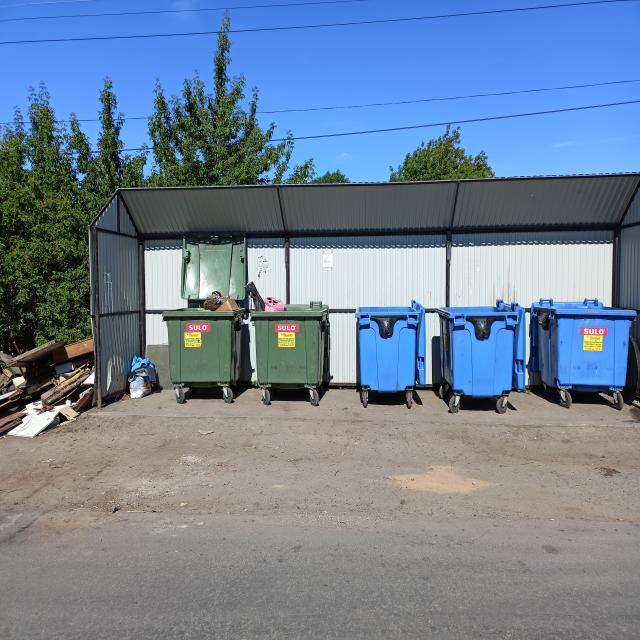bin: (533, 289, 640, 404), (438, 293, 526, 417), (165, 281, 248, 410), (250, 291, 343, 406), (352, 302, 428, 407)
trash: (122, 344, 159, 406)
